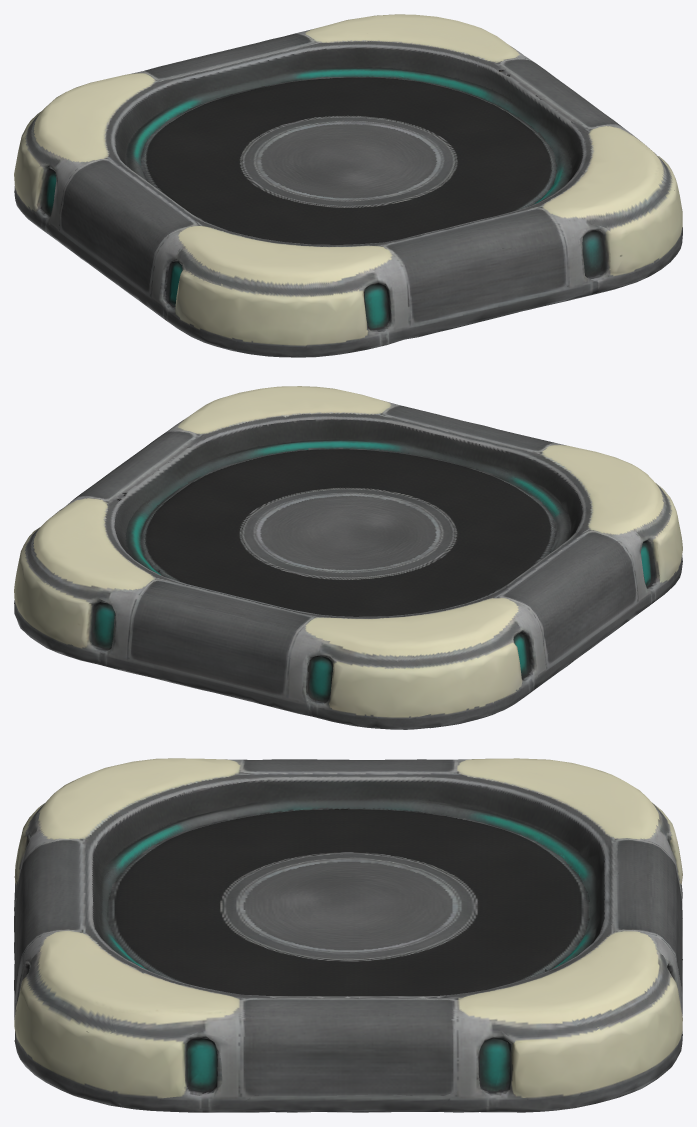
The model's file is wish-tray-v2.glb.
3 views of the same model, one above another, from view 1: azimuth 30°, elevation 25°; view 2: azimuth 150°, elevation 25°; view 3: azimuth 270°, elevation 25° (orthographic). The views are drawn at different scales.
Size of the model in its own units: 1 by 0.1486 by 1.
Materials: 1 (1 with a texture image).
